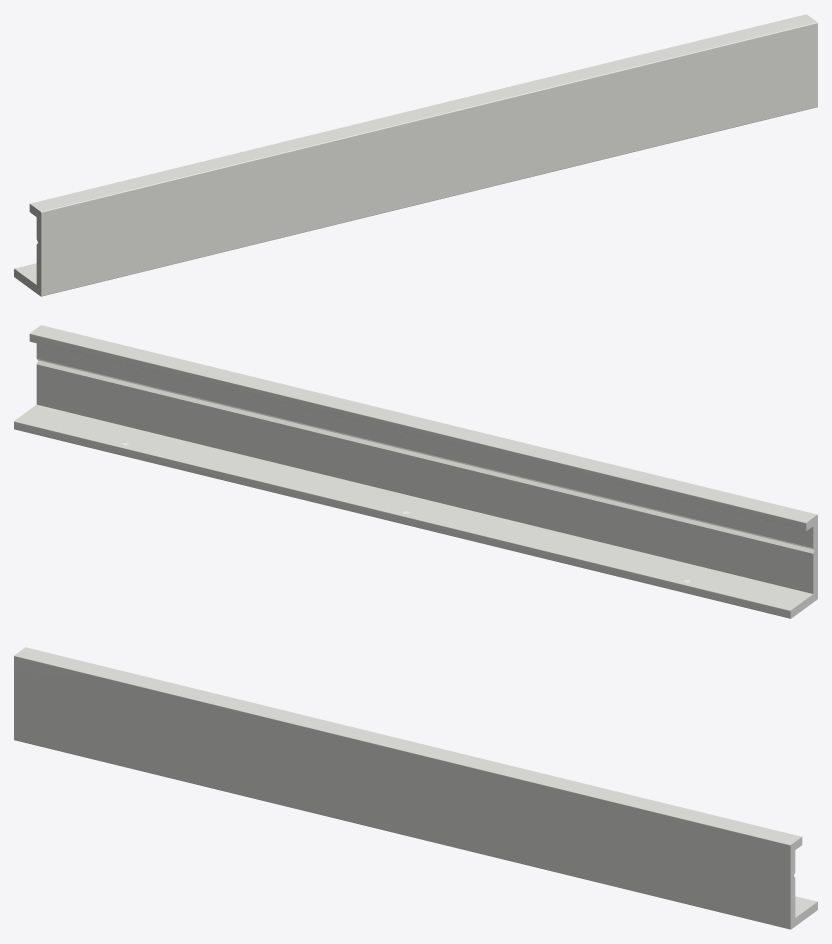
Rendered from 14 - MOSSLANDA Picture ledge - white 115 cm.glb.
The picture shows the model from 3 angles, top to bottom: view 1: azimuth 30°, elevation 25°; view 2: azimuth 150°, elevation 25°; view 3: azimuth 330°, elevation 25°; orthographic projection.
Visible parts, largest first — view 1: Mesh_0; view 2: Mesh_0; view 3: Mesh_0.
Boxes of the visible parts, bbox=[...] form: Mesh_0: bbox=[14, 14, 817, 296]; Mesh_0: bbox=[14, 325, 817, 618]; Mesh_0: bbox=[14, 647, 817, 929].
Bounding box in the file's own units: 1.15 × 0.12 × 0.07.
Materials: 1 (1 with a texture image).
